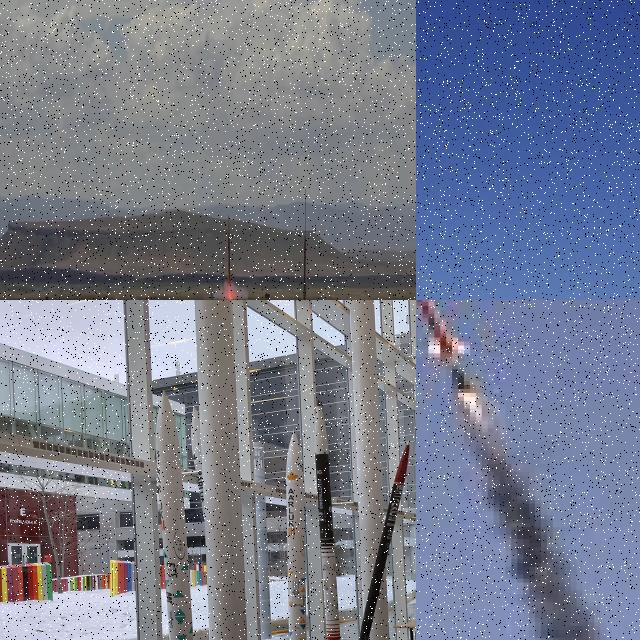Rocket: (191, 405, 244, 640), (358, 440, 410, 640), (156, 390, 193, 640), (315, 400, 341, 640), (287, 429, 307, 640), (416, 300, 475, 365), (228, 214, 232, 292), (304, 235, 306, 297)
